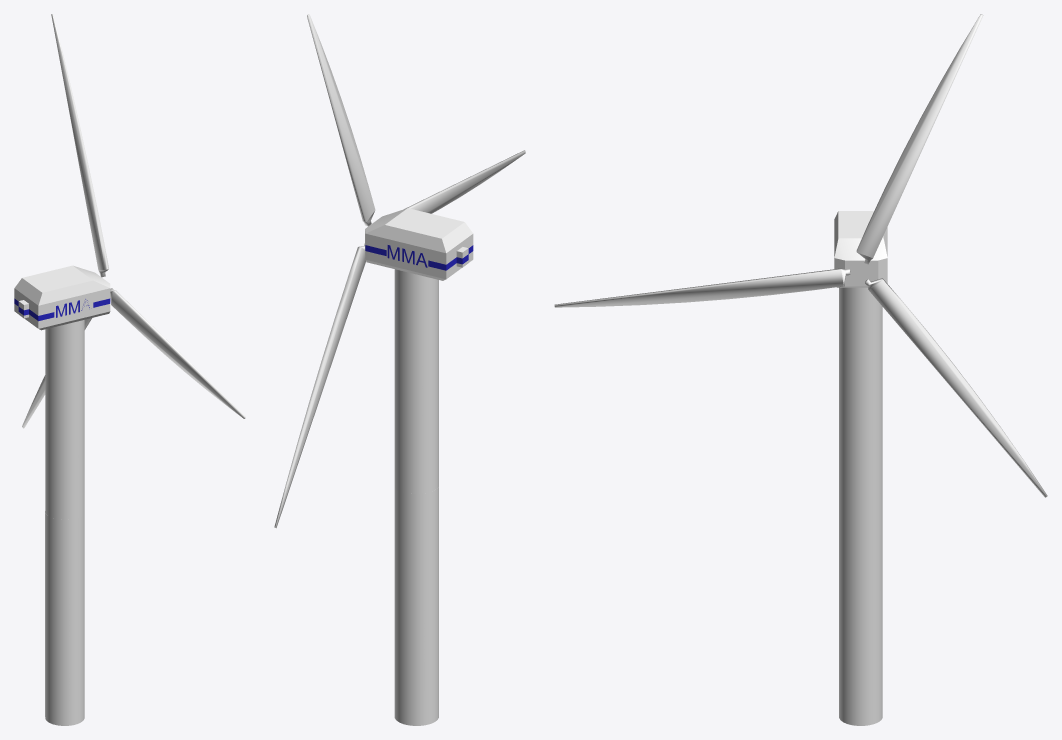
The model's file is windturbine1.dae.
3 renders of one model, left to right at view 1: azimuth 30°, elevation 25°; view 2: azimuth 150°, elevation 25°; view 3: azimuth 270°, elevation 25°, orthographic. The views are drawn at different scales.
Visible parts, largest first — view 1: Mast, Mast1, Model, rotorblad1, rotorblad2, rotorblad3; view 2: Mast, Mast1, Model, rotorblad3, rotorblad1, rotorblad2; view 3: Mast, Mast1, rotorblad2, rotorblad3, rotorblad1, Model.
Part boxes in pixels (<box>): Mast: <box>45,511,84,725</box>; Mast1: <box>45,320,84,519</box>; Model: <box>14,265,110,330</box>; rotorblad1: <box>51,14,108,277</box>; rotorblad2: <box>110,288,245,418</box>; rotorblad3: <box>22,318,91,428</box>; Mast: <box>394,486,438,725</box>; Mast1: <box>394,269,438,493</box>; Model: <box>365,208,473,280</box>; rotorblad3: <box>274,243,365,528</box>; rotorblad1: <box>307,14,375,226</box>; rotorblad2: <box>404,150,525,213</box>; Mast: <box>839,490,882,725</box>; Mast1: <box>839,287,882,498</box>; rotorblad2: <box>554,268,850,307</box>; rotorblad3: <box>865,278,1047,497</box>; rotorblad1: <box>856,14,983,264</box>; Model: <box>834,211,887,287</box>.
Bounding box in the file's own units: 10.09 × 45.19 × 73.32.
